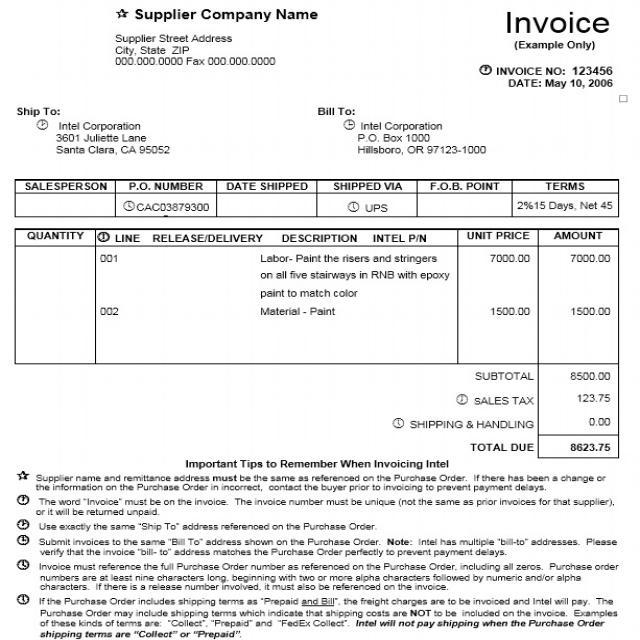customer_address: (51, 130, 183, 161), (356, 131, 495, 159)
customer_name: (51, 118, 148, 131), (359, 120, 459, 132)
invoice_date: (544, 76, 616, 90)
invoice_number: (571, 62, 616, 78)
invoice_subtotal: (565, 367, 617, 384)
invoice_total: (562, 438, 618, 457)
item_description: (255, 246, 453, 323)
item_total_price: (563, 249, 616, 326)
item_unit_price: (482, 246, 534, 324)
supplier_address: (133, 5, 323, 25), (111, 32, 240, 56)
tax_amount: (575, 391, 612, 407)
